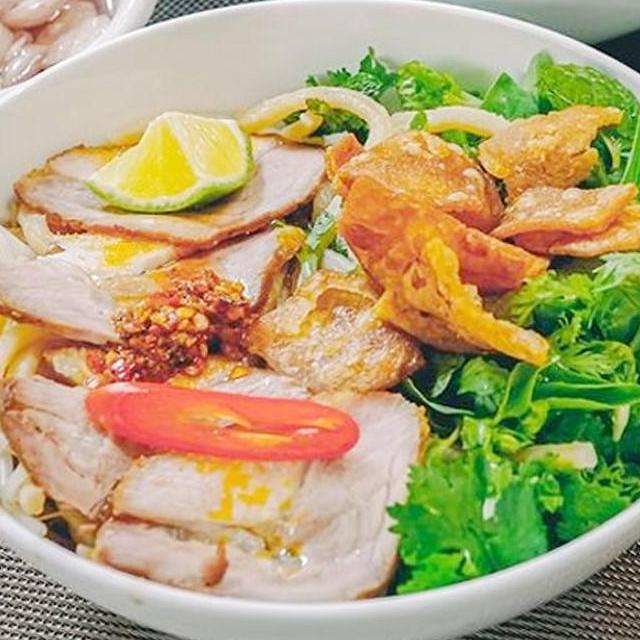banh da: (333, 170, 554, 303), (224, 261, 428, 400), (363, 233, 552, 371), (314, 121, 512, 250), (473, 99, 628, 213), (474, 179, 640, 262)
mi: (232, 81, 520, 163), (0, 301, 75, 440)
mi quang: (0, 37, 640, 640)
thit heo: (89, 362, 438, 611), (0, 338, 230, 552), (0, 221, 308, 360), (9, 125, 336, 253)
